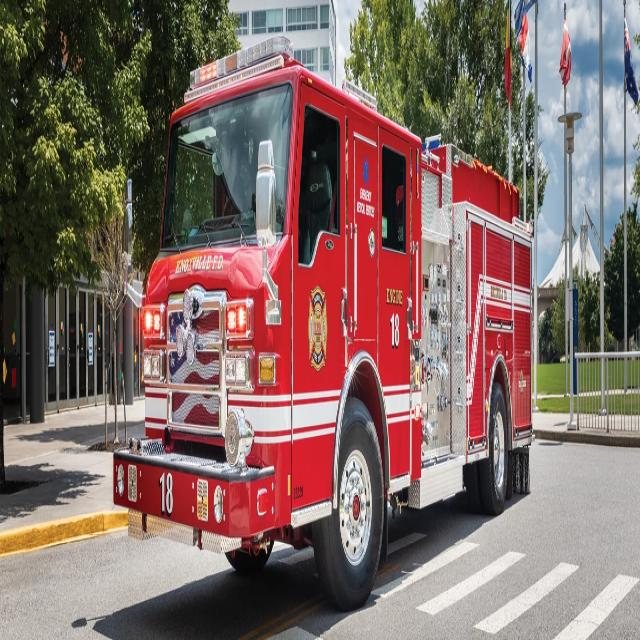Firetruck: (107, 23, 543, 619)
